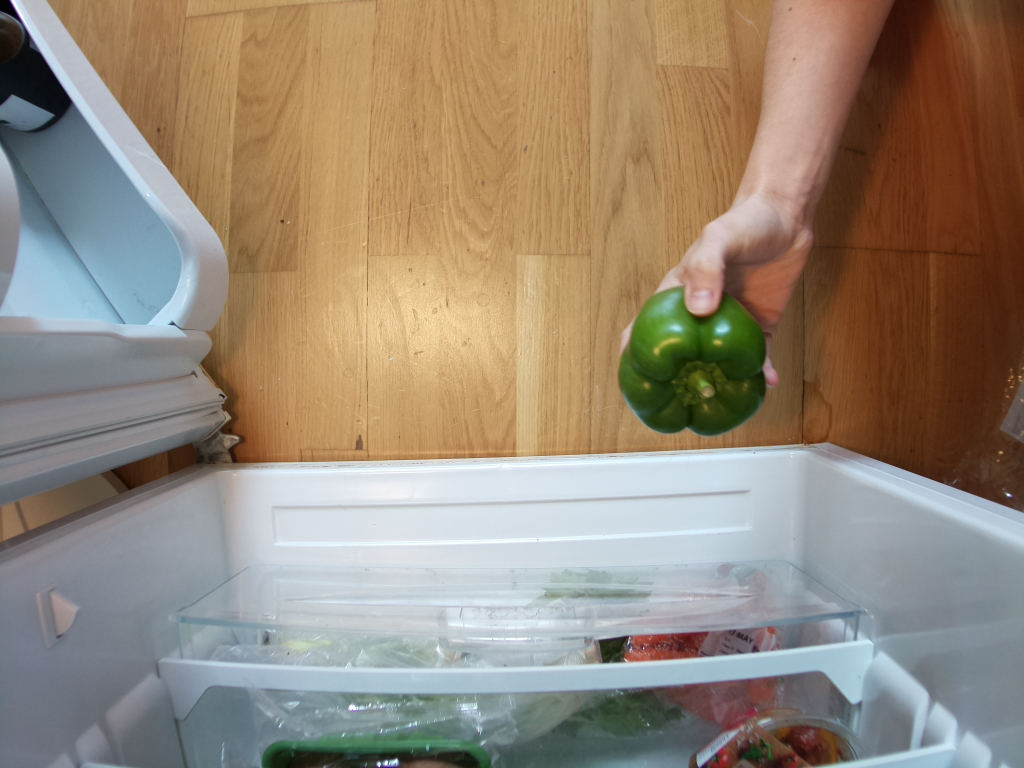pepper: (618, 285, 767, 437)
